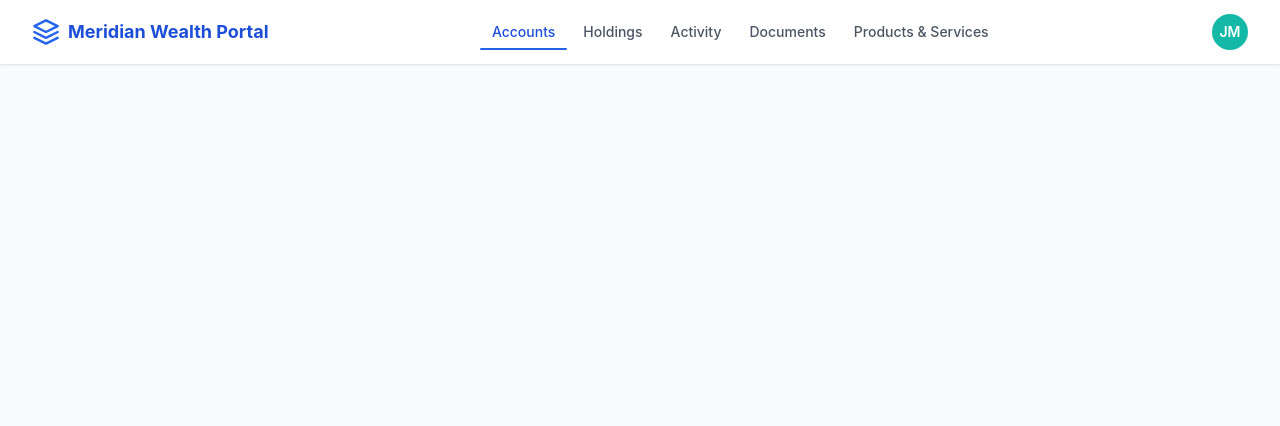
Test: Navbar › profile dropdown › opens profile dropdown when clicked
Click the button with aria-label "Open profile menu".
click(1230, 32)  # box [1212, 14, 1248, 50]
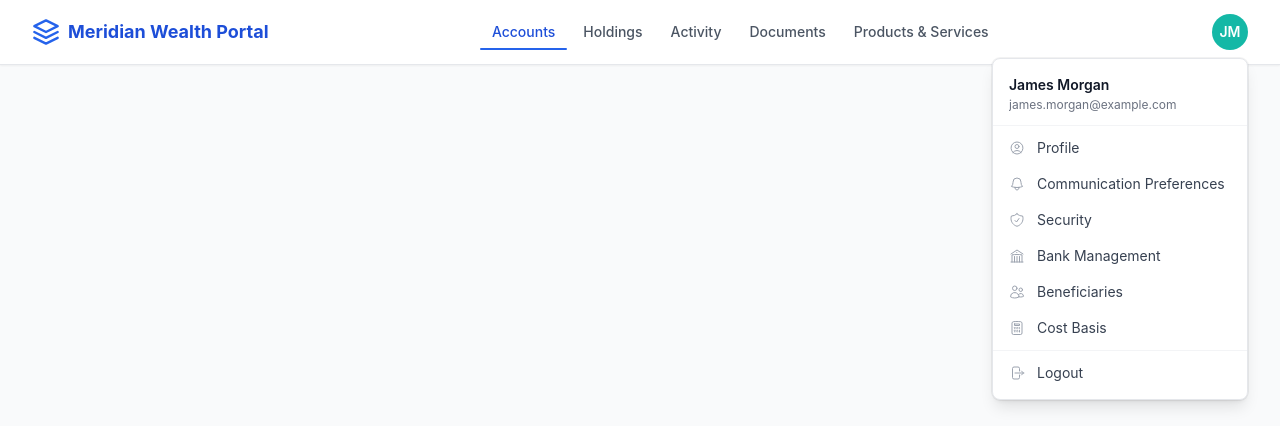
expect the text "James Morgan" is shown: met, box [1009, 76, 1109, 93]
expect the text "james.morgan@example.com" is shown: met, box [1009, 97, 1176, 112]
